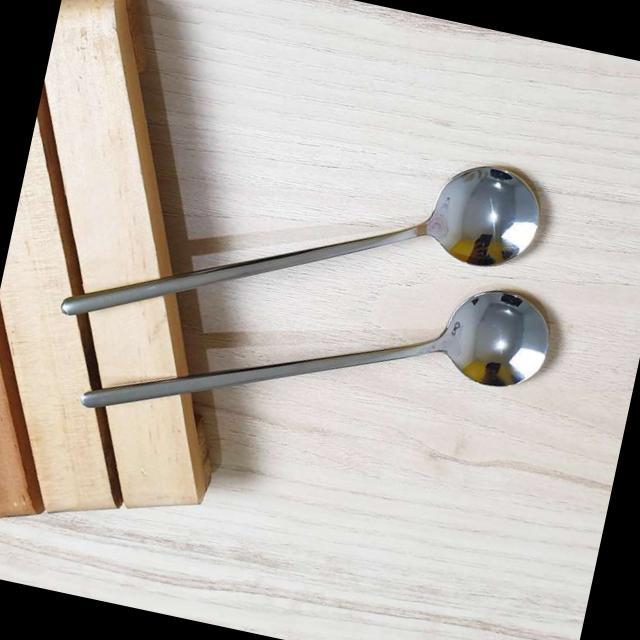spoon: (54, 157, 555, 326)
